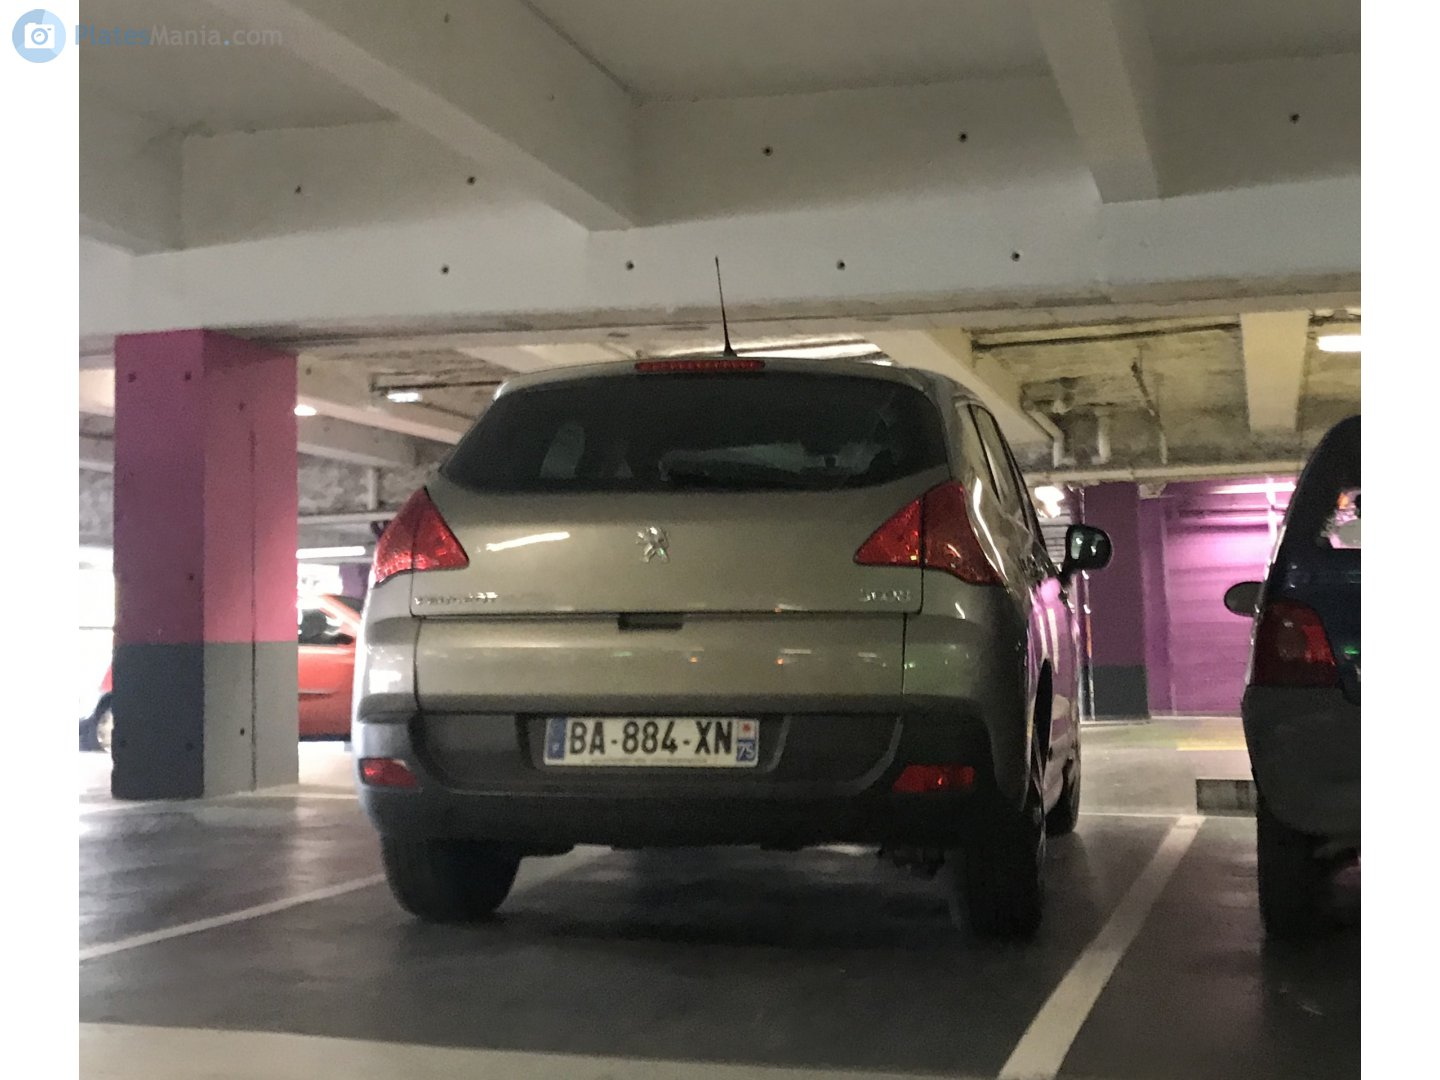licence plate: (541, 711, 764, 770)
